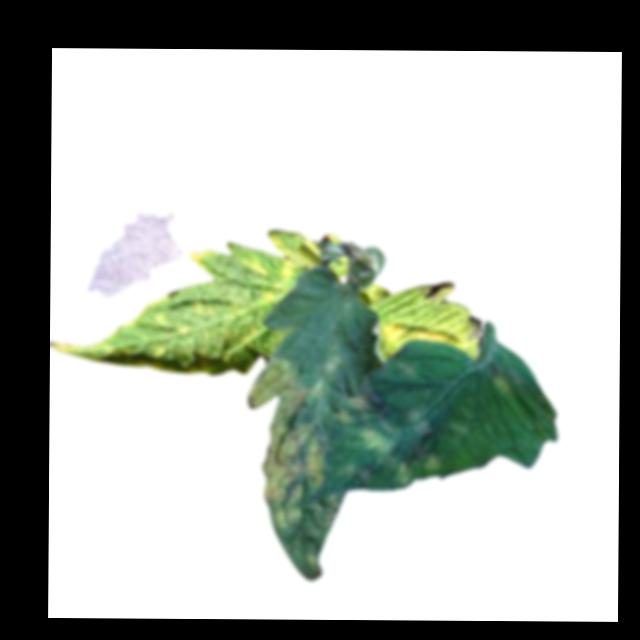Leaf_Mold: (51, 228, 308, 376), (246, 354, 343, 582), (335, 373, 445, 490), (382, 321, 470, 358)
